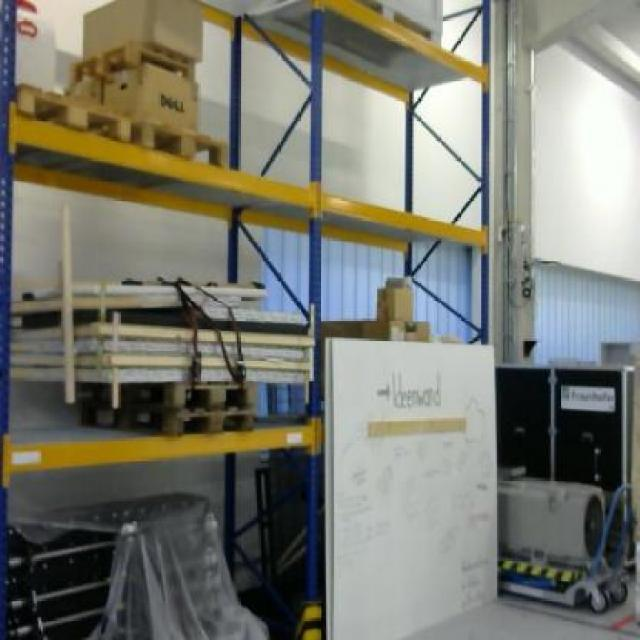box: (78, 0, 206, 55), (101, 63, 201, 132), (376, 288, 412, 324)
